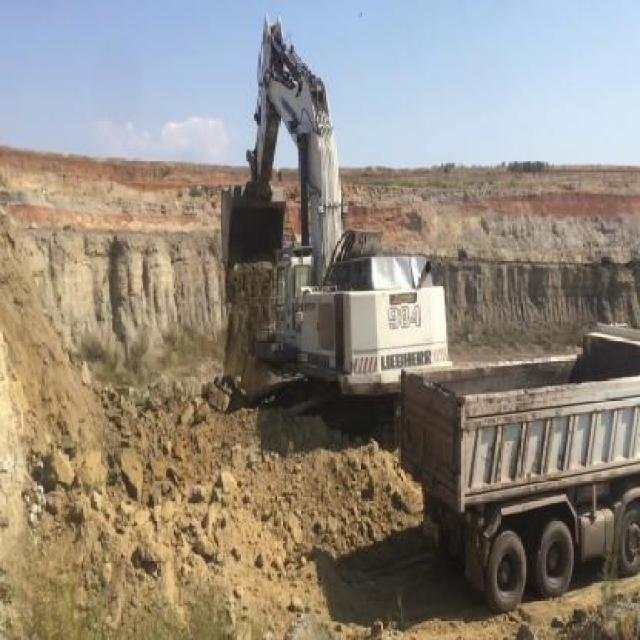dump_truck: (398, 318, 640, 600)
excavator: (215, 9, 451, 406)
